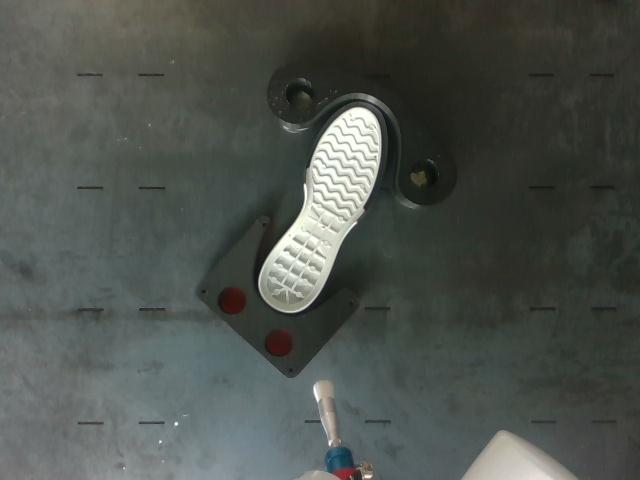shoes: (260, 102, 388, 311)
